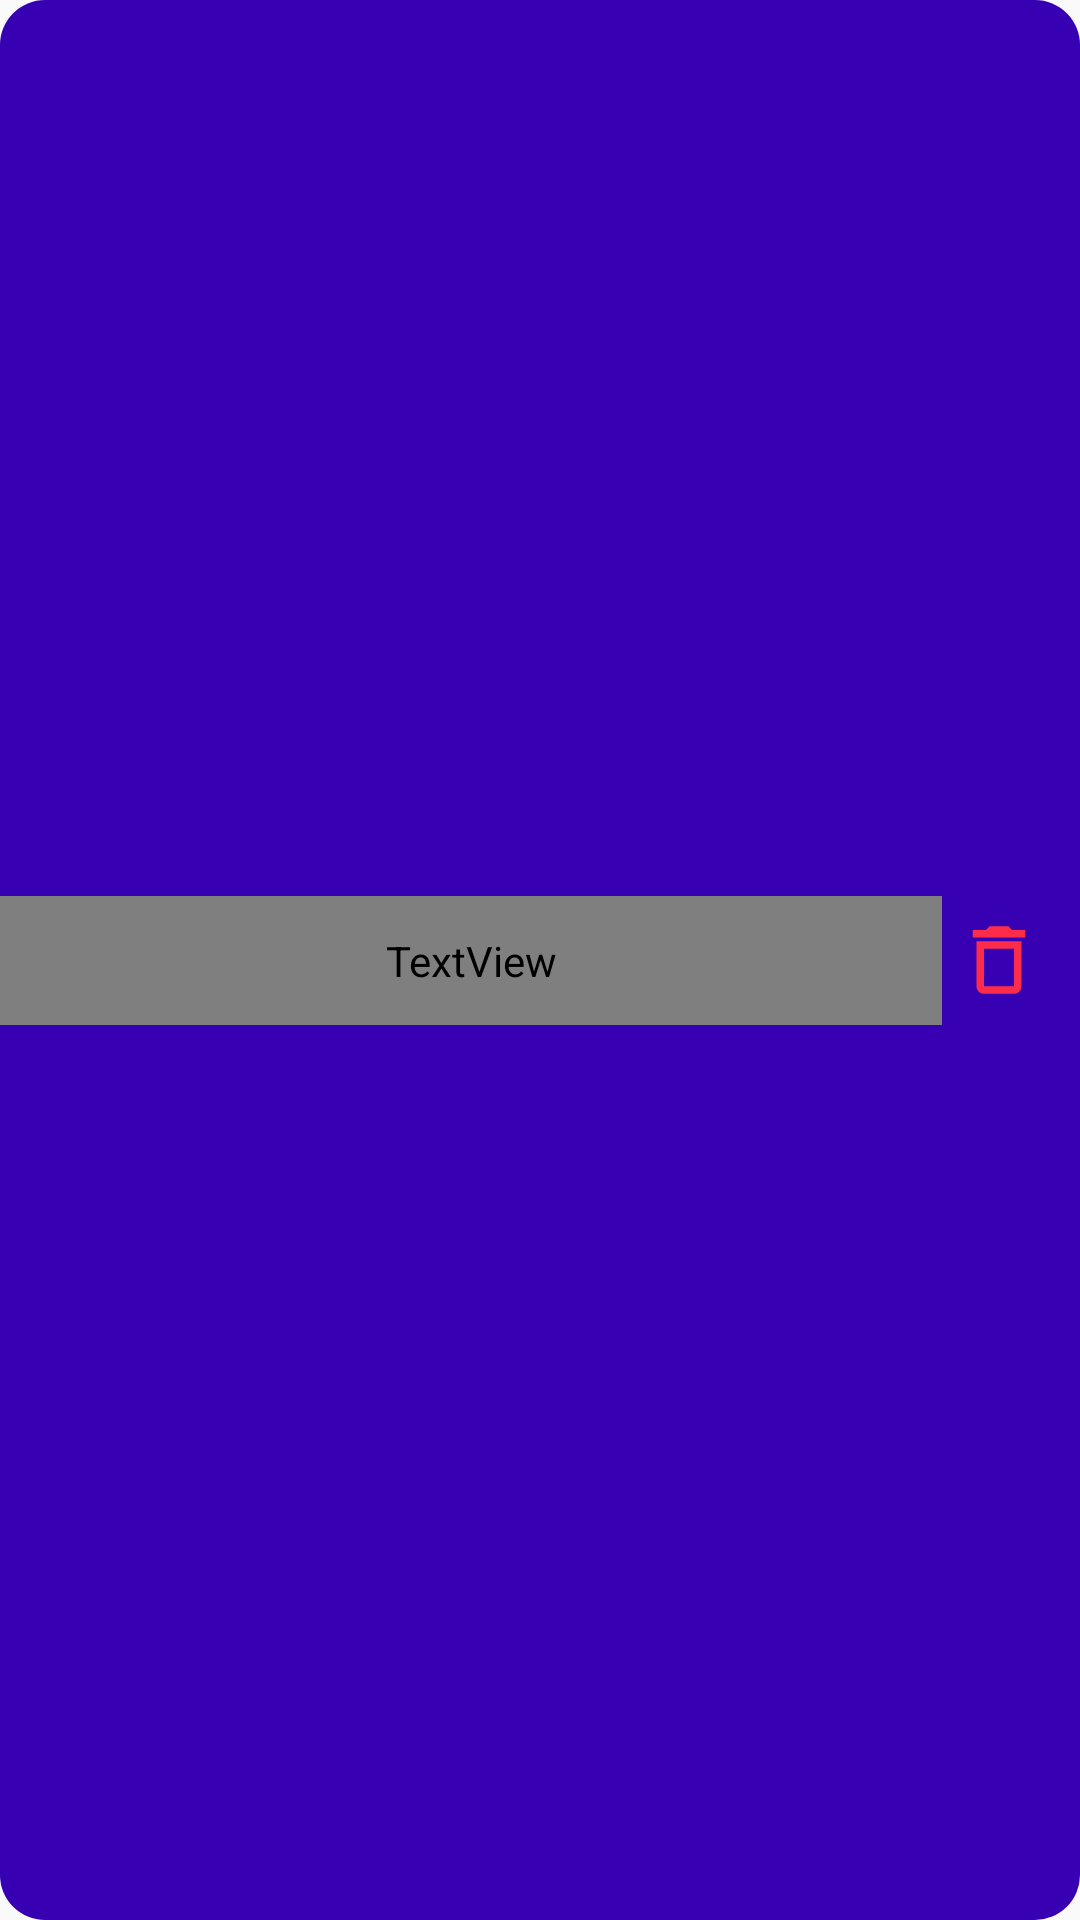

Icon bounding boxes for this 1080w x 1920h phone screenshot, format (x1,y1,x2,y2):
delete: (972,926,1026,994)
